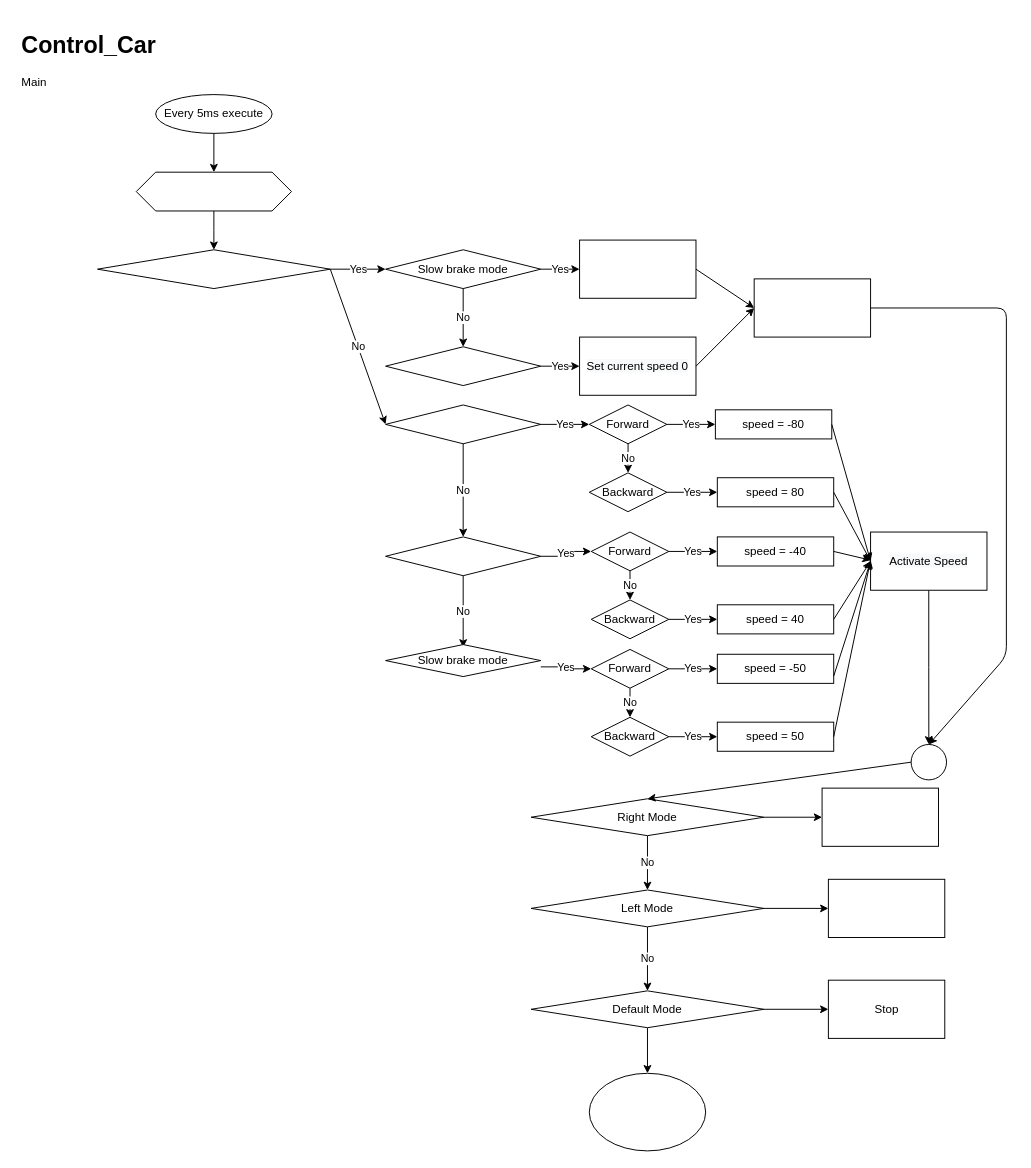
Image size: 1031x1168. Some labels were removed from this diagram. The shapes that lost their labels are listed below. From the top down, each one's box as (x1, y1, x2, y2) in pixels, then its label:
(135, 171, 291, 211): ecrobot_read_bt_packet (bt_receive_buf, 32)
(97, 249, 330, 289): A button pressed
(579, 239, 696, 298): Slow down speed
(753, 278, 871, 337): Activate Brake
(385, 346, 541, 386): Immediate brake mode
(385, 404, 541, 444): Fast speed mode
(385, 536, 541, 576): Slow speed mode
(821, 787, 938, 846): Go Right
(827, 878, 945, 938): Go Left
(588, 1072, 706, 1151): Terminate Task()
